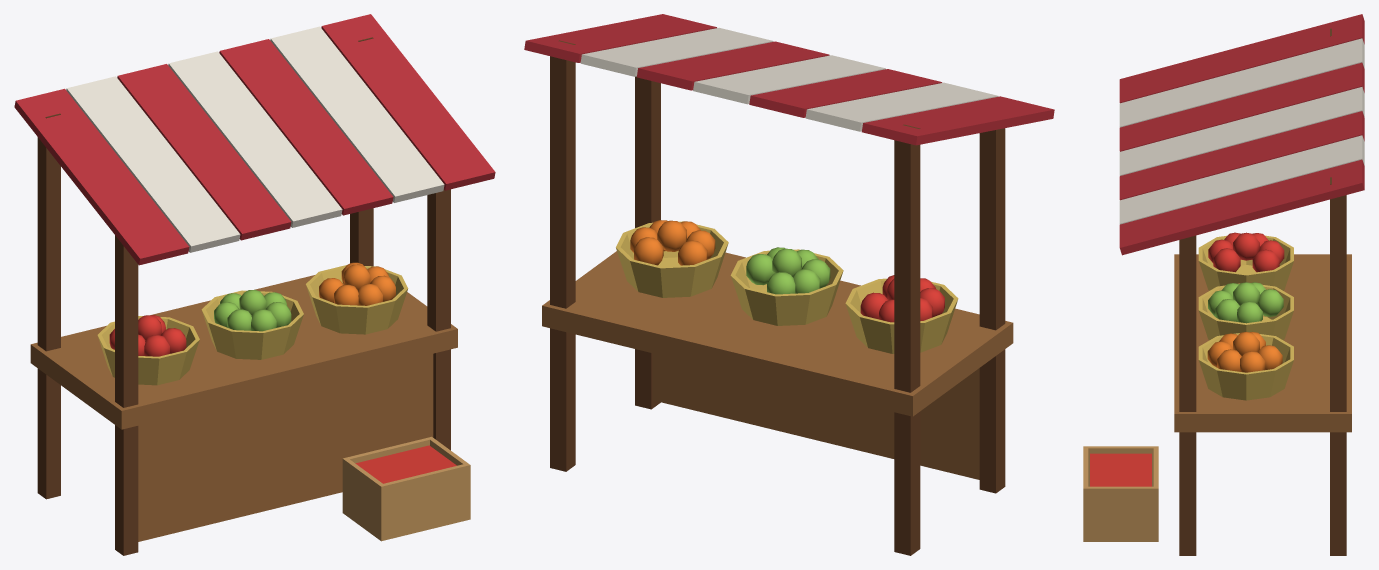
File: stall-fruit.glb
3 renders of one model, left to right at view 1: azimuth 30°, elevation 25°; view 2: azimuth 150°, elevation 25°; view 3: azimuth 270°, elevation 25°, orthographic. The views are drawn at different scales.
Visible parts, largest first — view 1: Stall awning, Stall counter, Stall posts, Stall baskets, Stall crate, Stall fruit B, Stall fruit C, Stall crate apples, Stall fruit A; view 2: Stall counter, Stall posts, Stall awning, Stall baskets, Stall fruit B, Stall fruit C, Stall fruit A; view 3: Stall awning, Stall counter, Stall posts, Stall baskets, Stall crate, Stall fruit B, Stall fruit C, Stall fruit A, Stall crate apples.
Part boxes in pixels (x1,y1,x2,y2): Stall awning: (14,14,495,265); Stall counter: (30,275,457,541); Stall posts: (37,37,450,555); Stall baskets: (97,265,408,385); Stall crate: (342,436,470,541); Stall fruit B: (214,289,291,331); Stall fruit C: (319,262,395,305); Stall crate apples: (355,445,456,483); Stall fruit A: (109,315,186,356); Stall counter: (542,251,1013,479); Stall posts: (550,40,1005,555); Stall awning: (524,14,1054,145); Stall baskets: (616,221,958,353); Stall fruit B: (746,247,830,294); Stall fruit C: (630,220,715,265); Stall fruit A: (860,275,944,322); Stall awning: (1119,14,1364,255); Stall counter: (1174,254,1351,432); Stall posts: (1179,28,1346,555); Stall baskets: (1198,235,1293,400); Stall crate: (1083,446,1158,541); Stall fruit B: (1208,282,1283,323); Stall fruit C: (1207,331,1282,372); Stall fruit A: (1208,232,1284,272); Stall crate apples: (1090,453,1151,486).
Size of the model in its own units: 2.39 by 2.5 by 1.68.
